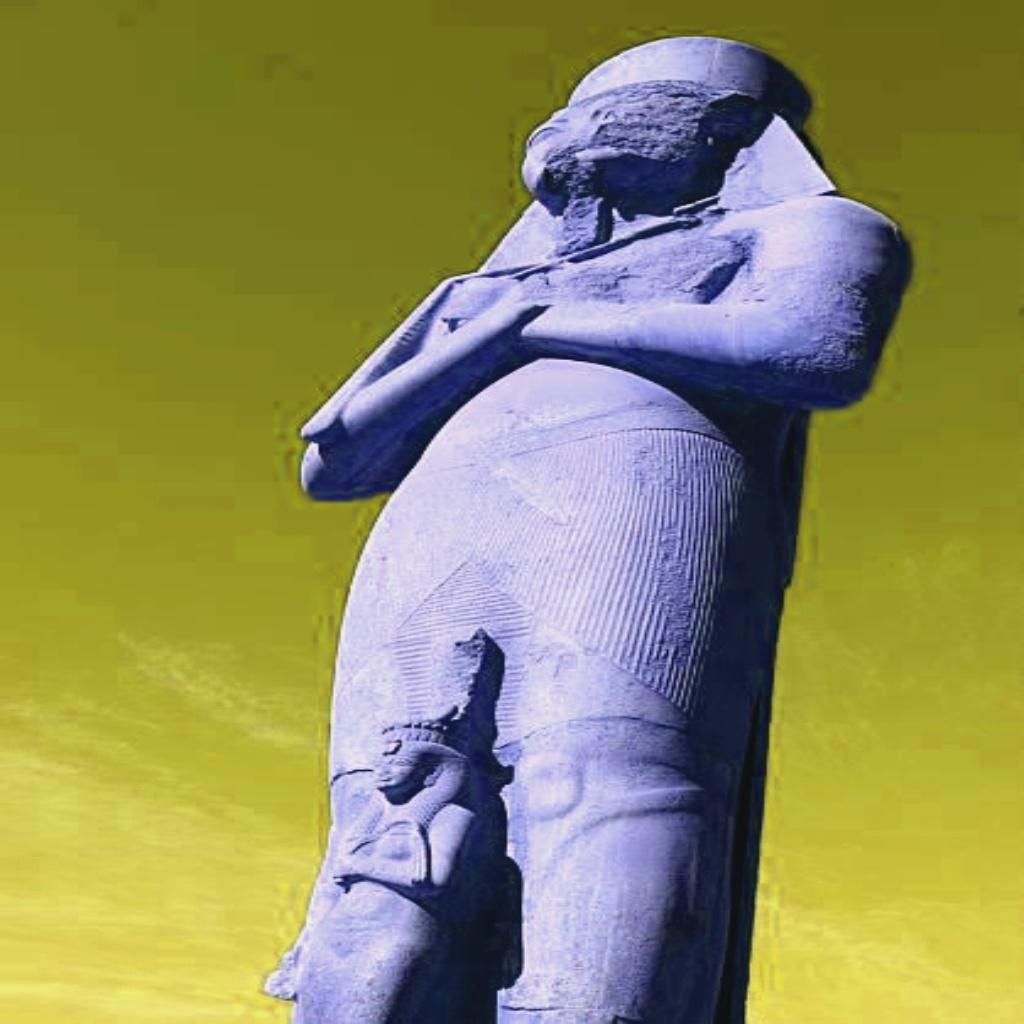Standing Statue of King Ramses II: (260, 32, 916, 1020)
